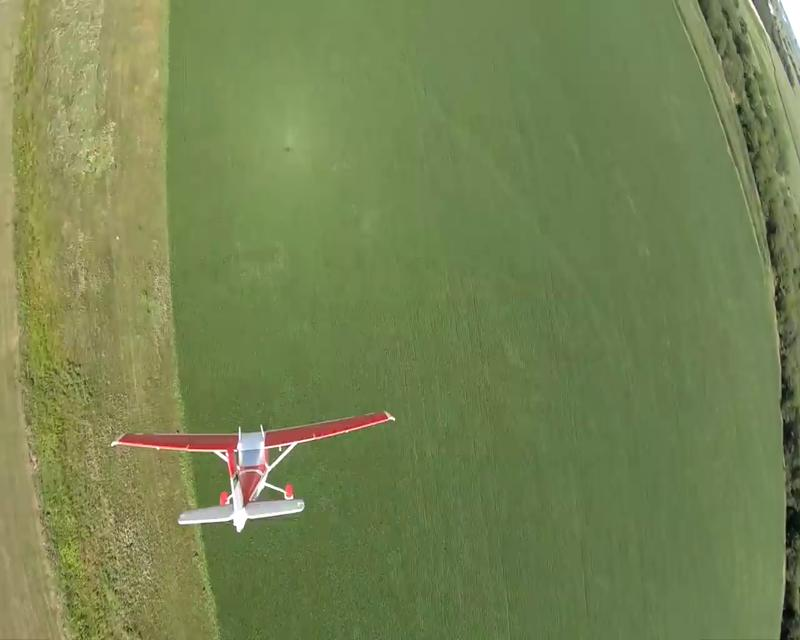UAV: (109, 408, 396, 533)
